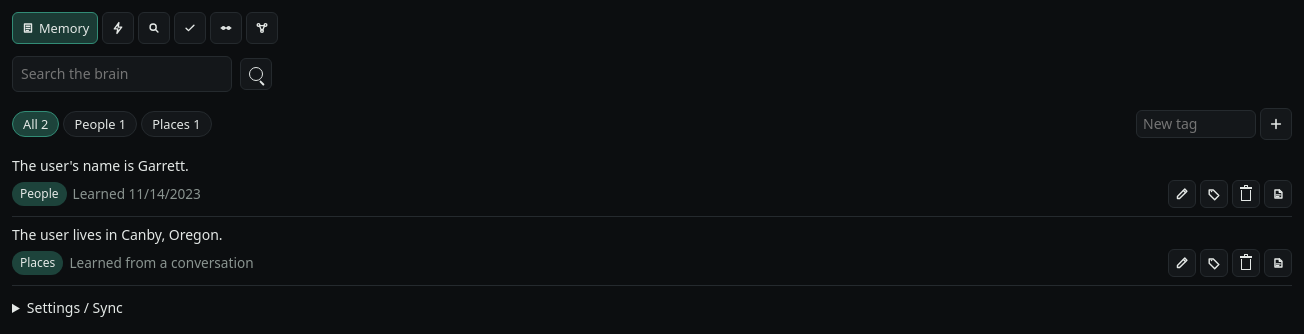
BrainMapView › searches without showing internal match labels
The image size is (1304, 334).
Check: the text "The user's name is Garrett." is shown, box 12,156 -> 189,175
Click the tab named "Search" at (154, 28), box 138,12 -> 170,44
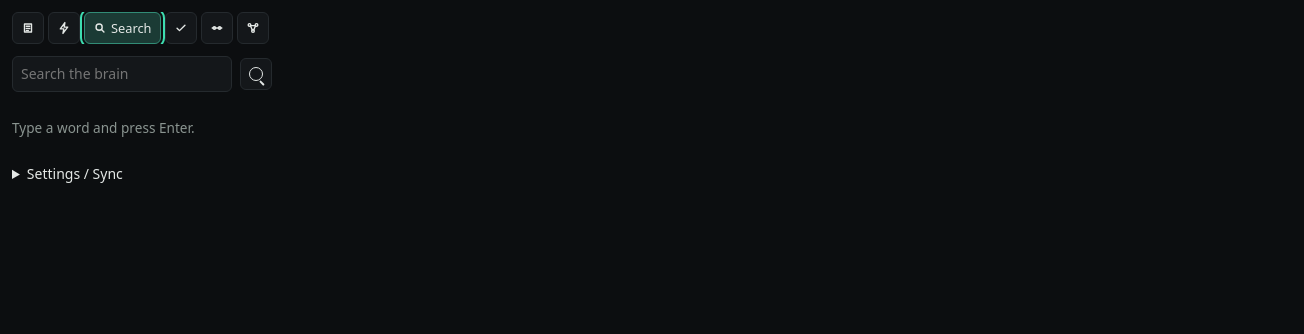
Type "where do I live" into the search field labelled "Search the brain" at (122, 74), box 12,56 -> 232,92
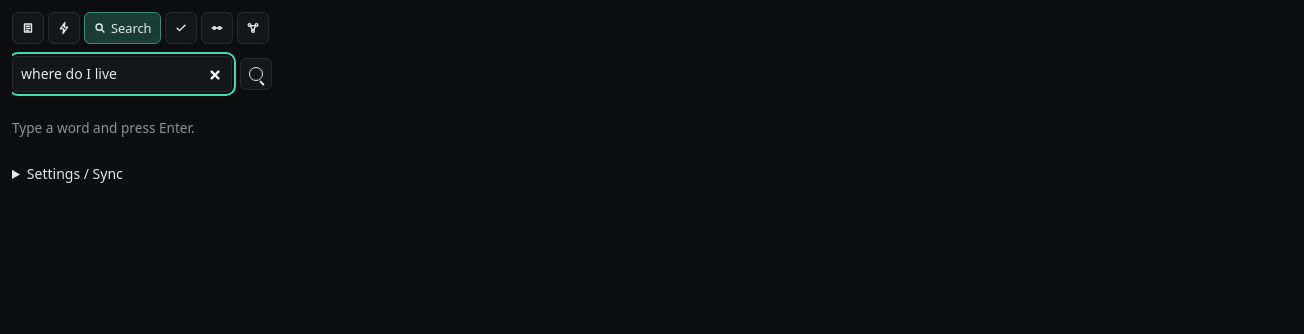
Click the button named "Search" at (256, 74), box 240,58 -> 272,90
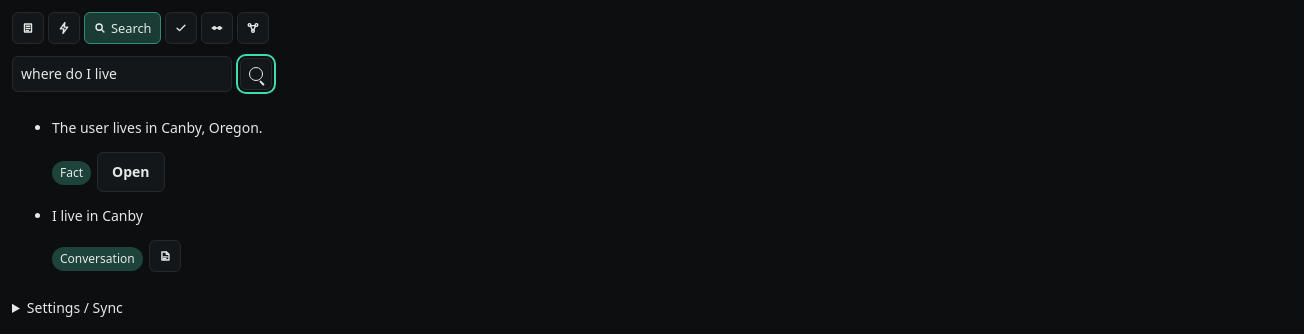
Check: the text "The user lives in Canby, Oregon." is shown, box 52,118 -> 263,137
Check: the list item "The user lives in Canby, Oregon. Fact Open" is shown, box 52,118 -> 263,192
Check: the list item "I live in Canby Conversation" is shown, box 52,206 -> 181,272
